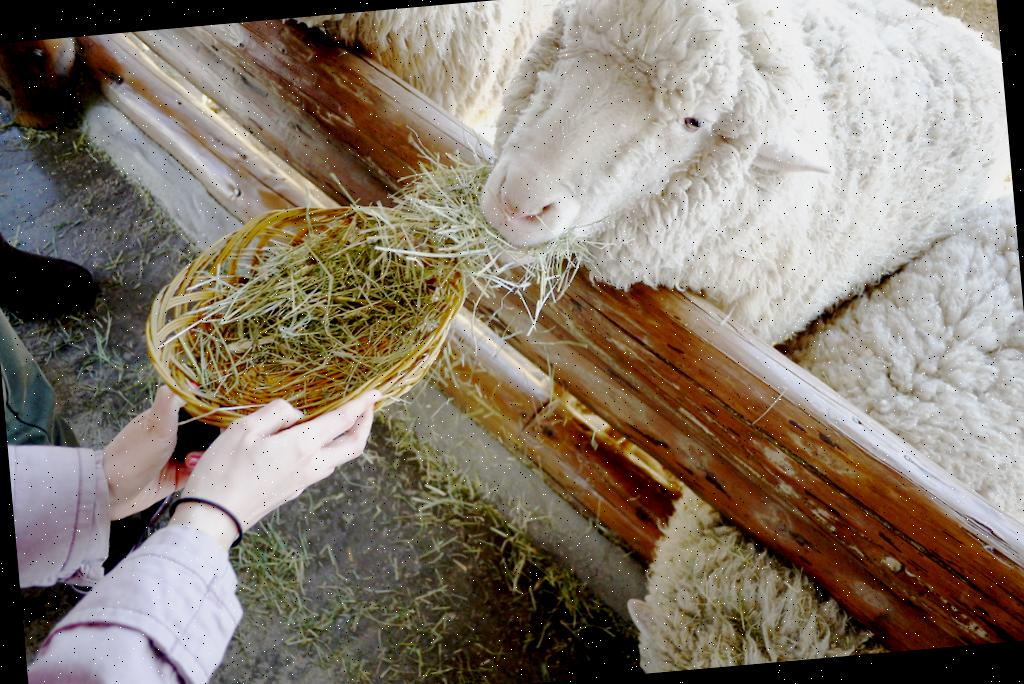Sheep: (462, 0, 1024, 372), (594, 188, 1024, 673), (254, 0, 590, 161)
